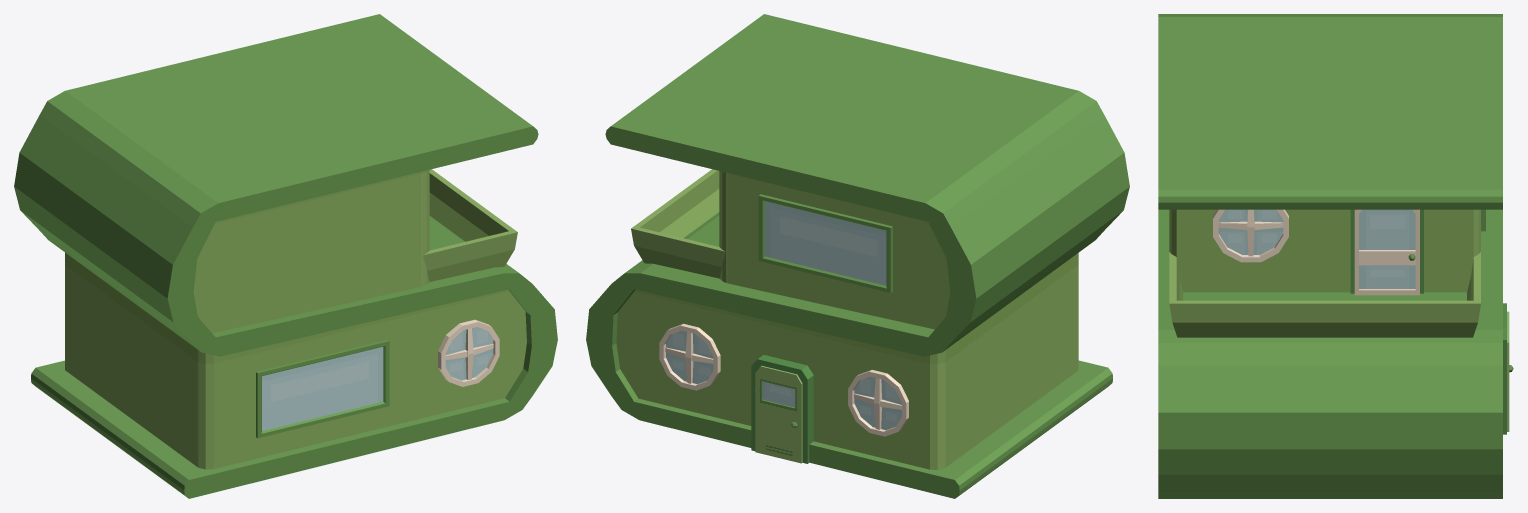
The model's file is W.H_green.fix.gltf.
The picture shows the model from 3 angles, left to right: view 1: azimuth 30°, elevation 25°; view 2: azimuth 150°, elevation 25°; view 3: azimuth 270°, elevation 25°; orthographic projection. The views are drawn at different scales.
Parts seen in each view (by area): view 1: cylinder; view 2: cylinder; view 3: cylinder.
Part boxes in pixels (bbox=[...]): cylinder: bbox=[14, 14, 557, 498]; cylinder: bbox=[586, 14, 1129, 498]; cylinder: bbox=[1158, 14, 1513, 498].
Size of the model in its own units: 16.17 by 11.43 by 11.35.
1 material, 1 textured.
